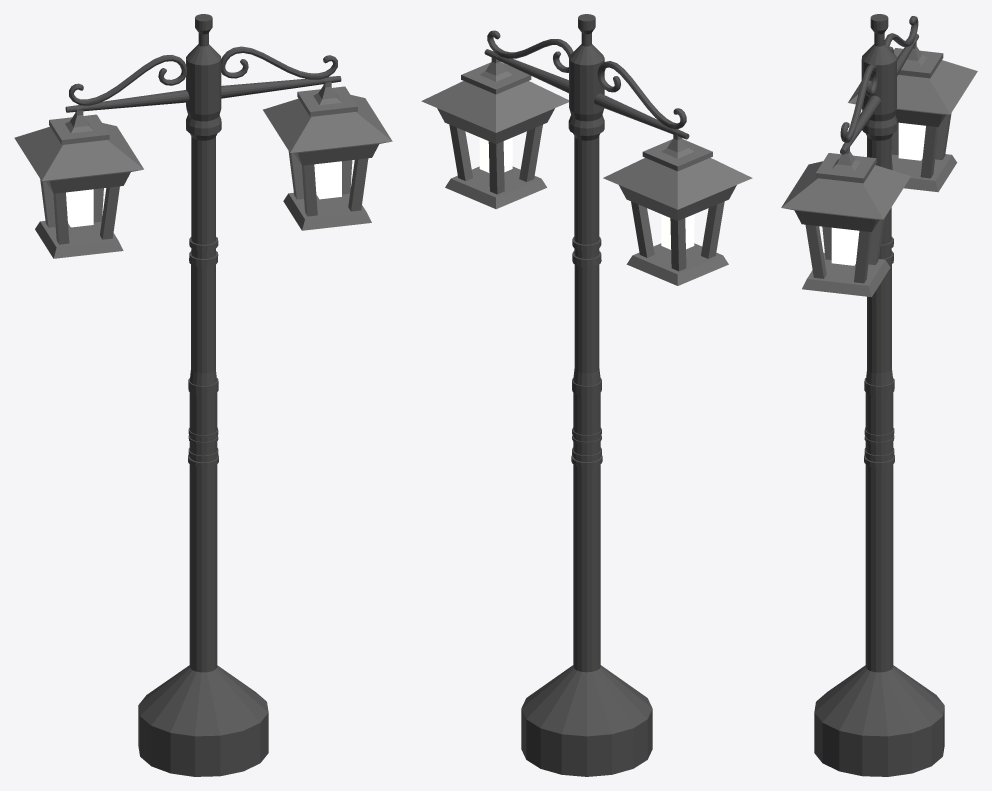
Rendered from Light.fbx.
3 views of the same model, side by side, from view 1: azimuth 30°, elevation 25°; view 2: azimuth 150°, elevation 25°; view 3: azimuth 270°, elevation 25° (orthographic).
Visible parts, largest first — view 1: Cylinder.006; view 2: Cylinder.006; view 3: Cylinder.006.
Part boxes in pixels (box(x1,y1,x2,y2)): Cylinder.006: box(14, 14, 392, 776); Cylinder.006: box(421, 14, 752, 776); Cylinder.006: box(781, 14, 977, 776).
Size of the model in its own units: 232 by 494 by 121.
